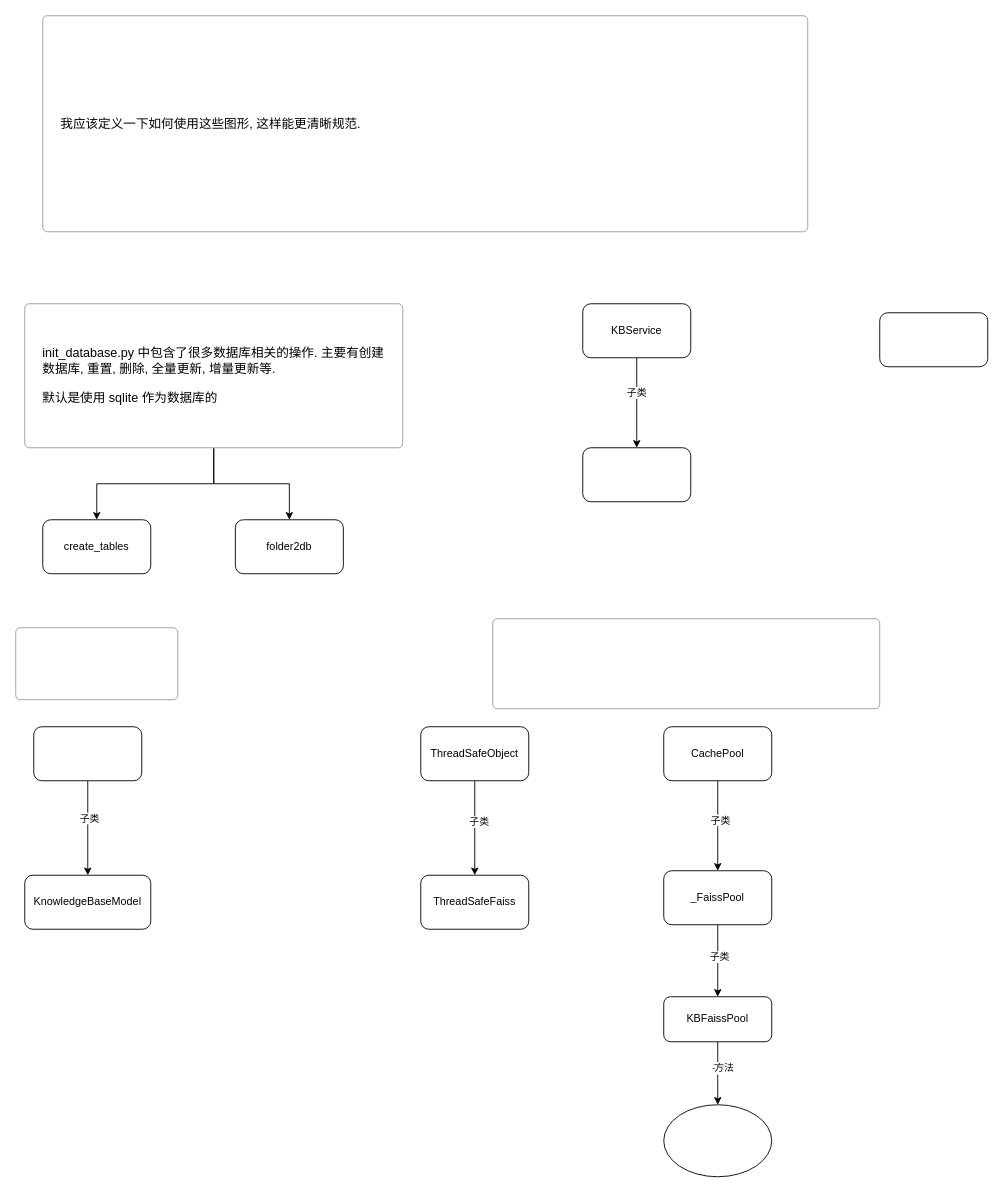
Some shapes in this 1004 by 1193 pixel diagram are drawn without their labels. The box of each missing label's shape, as (x1, y1, x2, y2) in pixels:
Base: (33, 726, 142, 781)
Base 是数据表的基类: (15, 627, 178, 700)
CachePool 和 ThreadSafeObject 是一起使用的: (492, 618, 880, 709)
FaissKBService: (582, 447, 691, 502)
KnowledgeFile: (879, 312, 988, 367)
load_vector_store: (663, 1104, 772, 1177)
